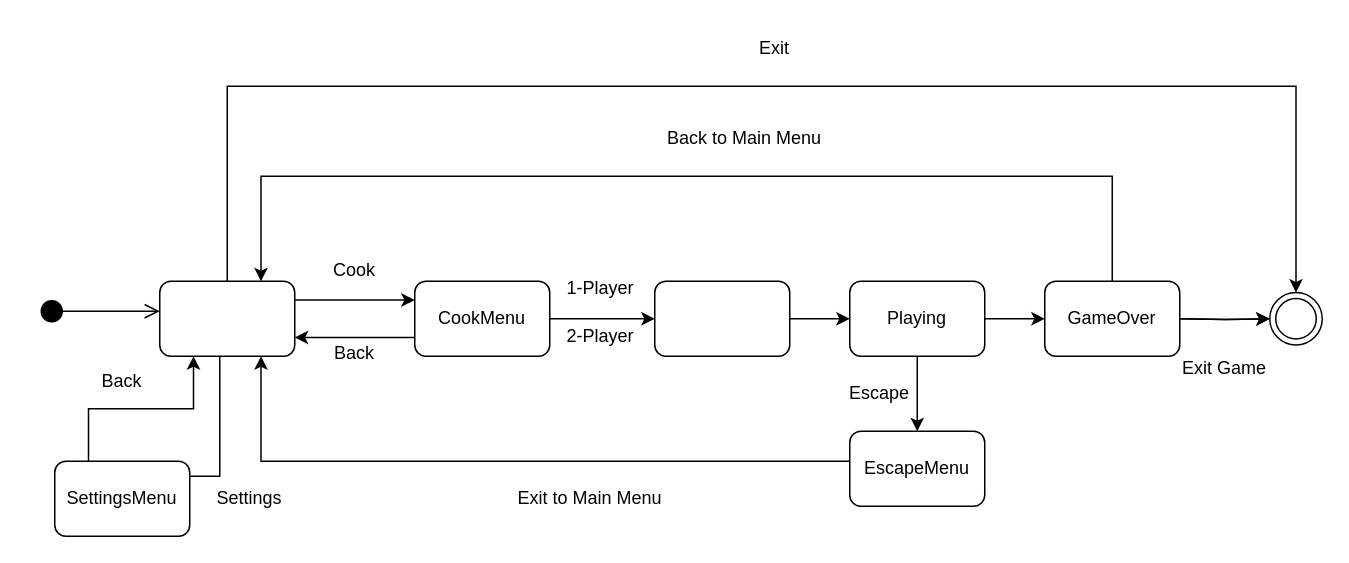
This 1349x563 diagram has some shape labels left out. The shapes that lost their labels are listed below. From the top down, each one's centre as x and y in pixels, then its label:
At point (226, 318): "MainMenu".
At point (721, 318): "CookInfoMenu".
